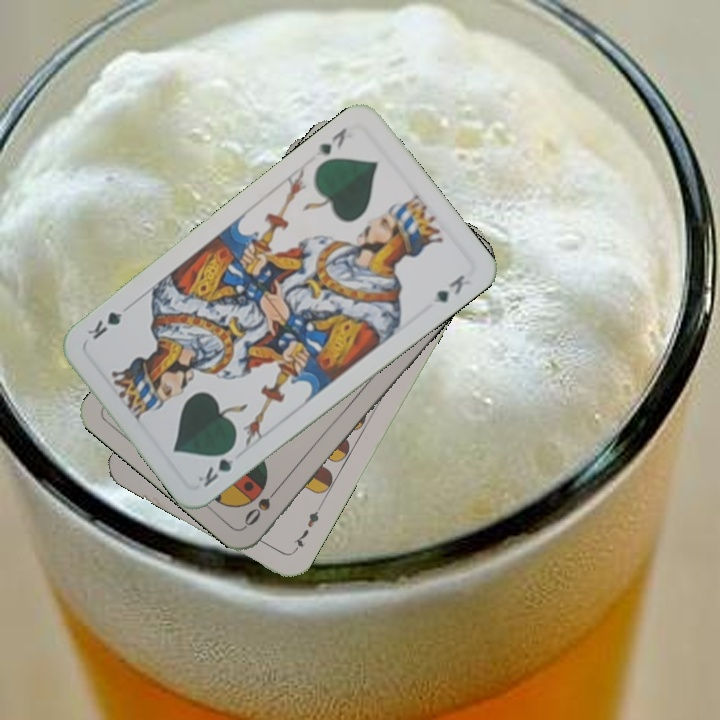E7: (289, 506, 322, 555)
GK: (194, 442, 238, 490), (314, 123, 350, 158)
SO: (240, 480, 284, 529)
